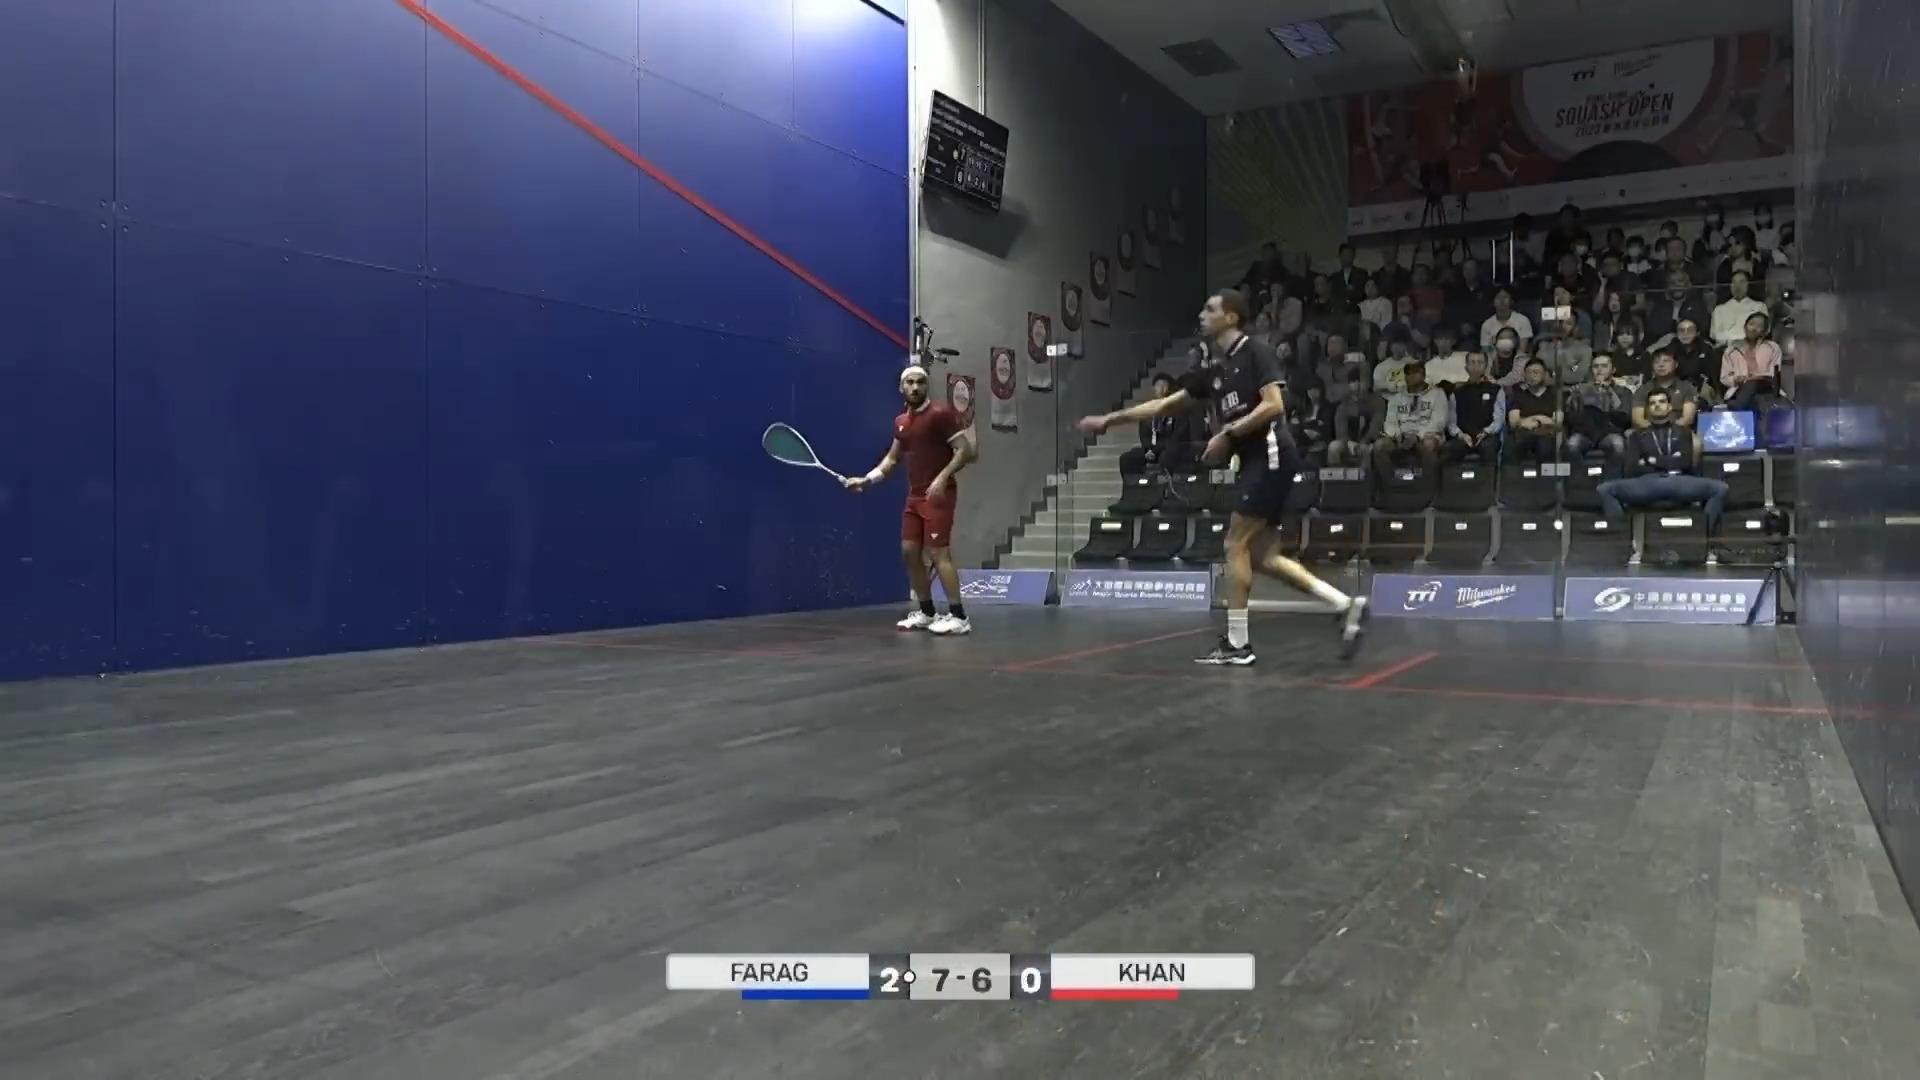Racket: (748, 406, 841, 481)
